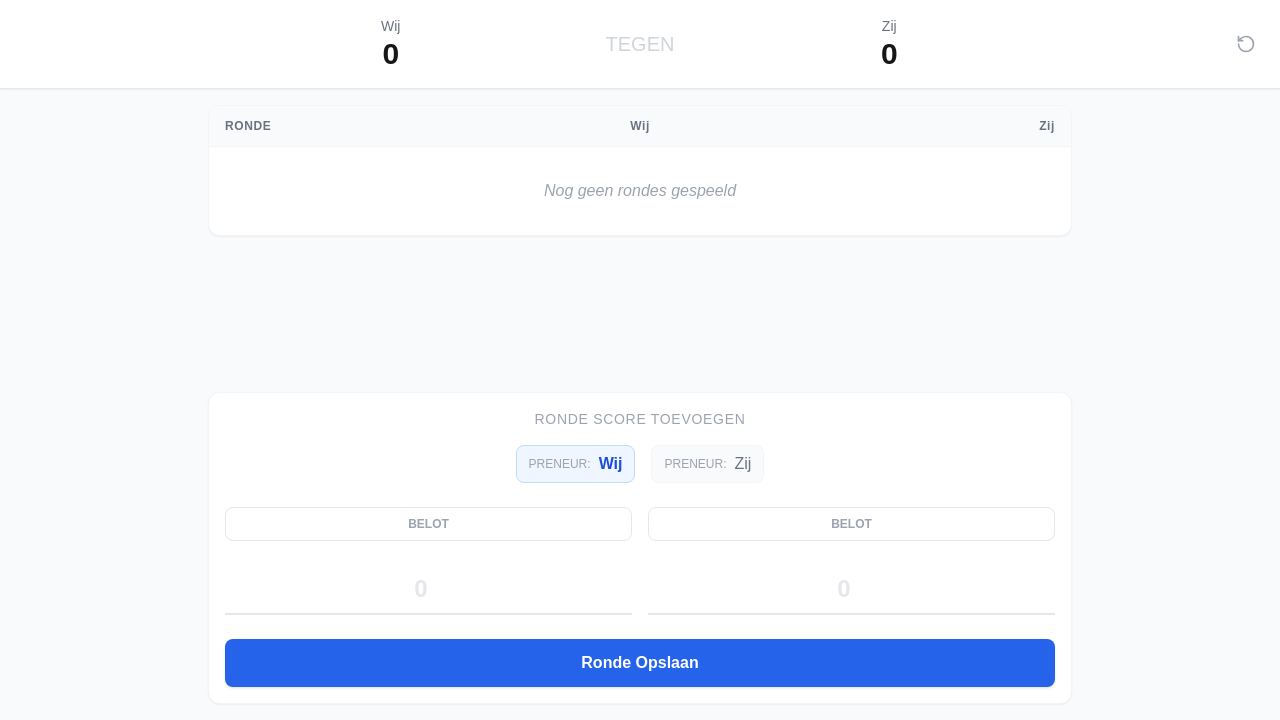
Test case: Home Page Integration › updates header name when name is edited
Click the text with test id "editable-name" in the row of "TEGEN": (391, 26) left=381, top=18, right=400, bottom=34
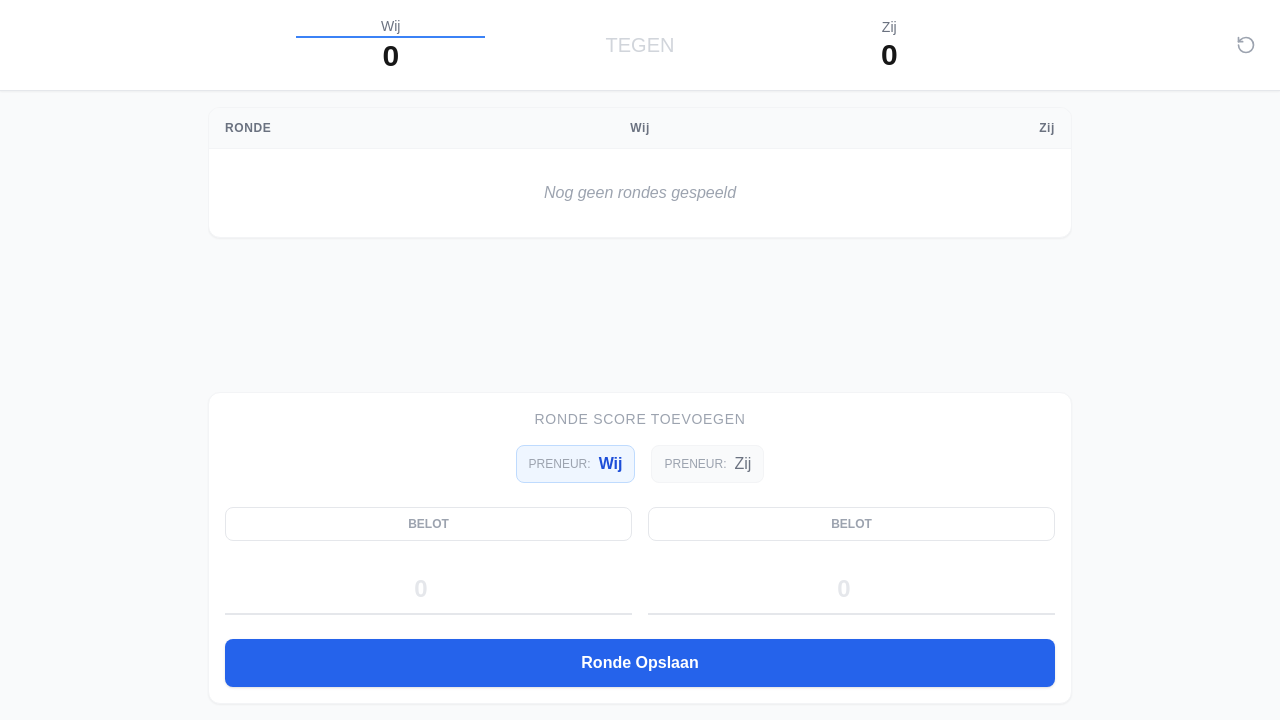
Replace the text in the field showing "Wij" with "Alpha": (391, 27) left=296, top=16, right=485, bottom=38
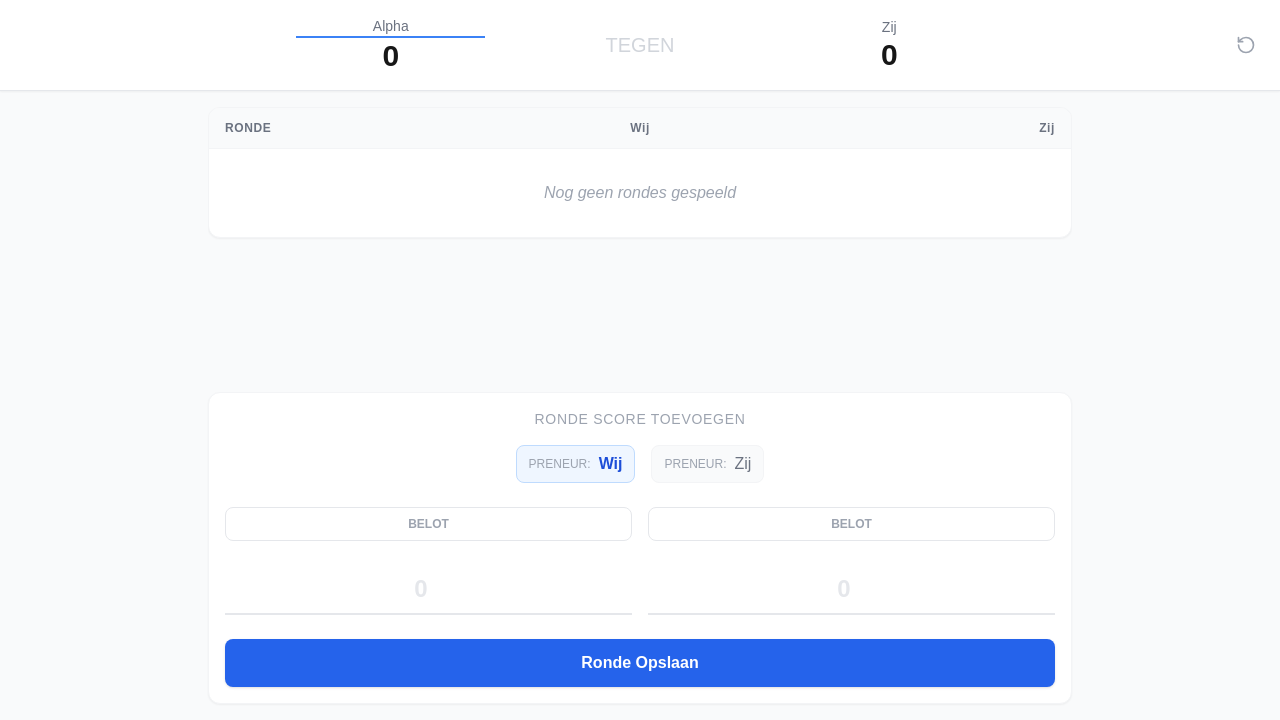
Leave the field showing "Wij", box left=296, top=16, right=485, bottom=38
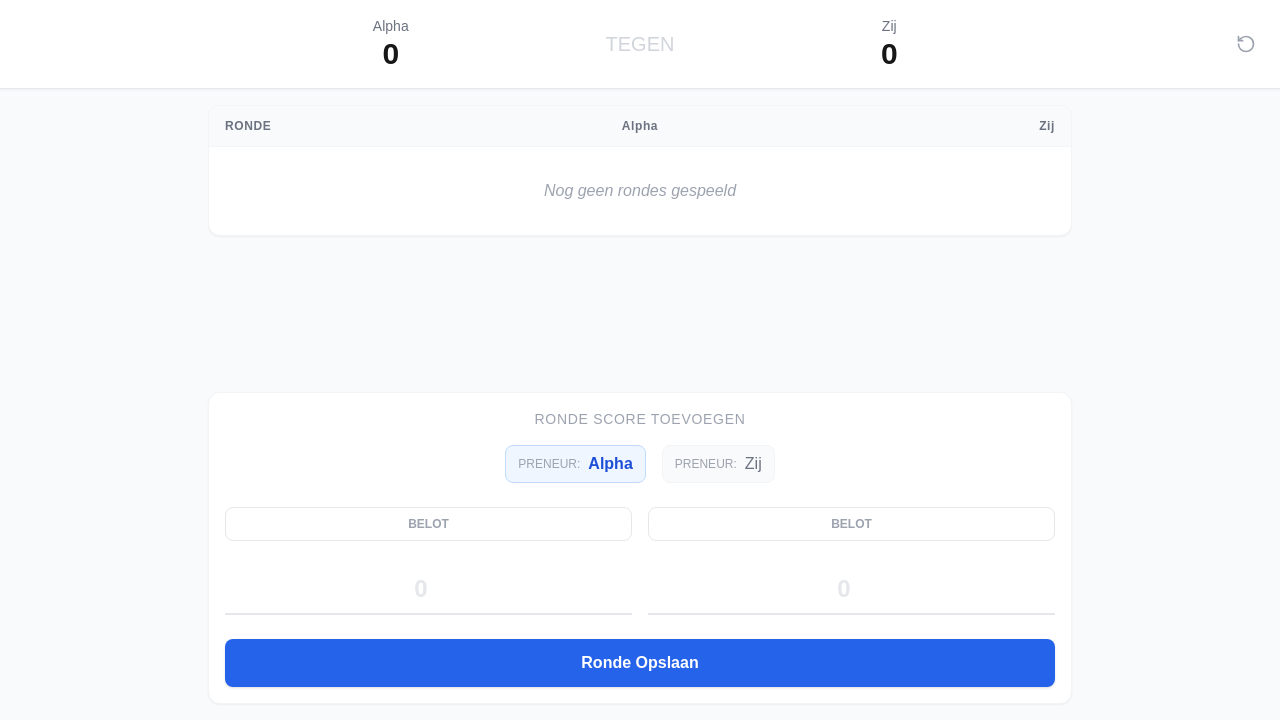
Expected: the text "Alpha" in the row of "TEGEN" is shown, left=373, top=18, right=409, bottom=34
Result: the text "Alpha" below "Ronde Score Toevoegen" is shown at left=588, top=455, right=633, bottom=472
Result: the 2nd text "Alpha" is shown at left=622, top=119, right=658, bottom=133
